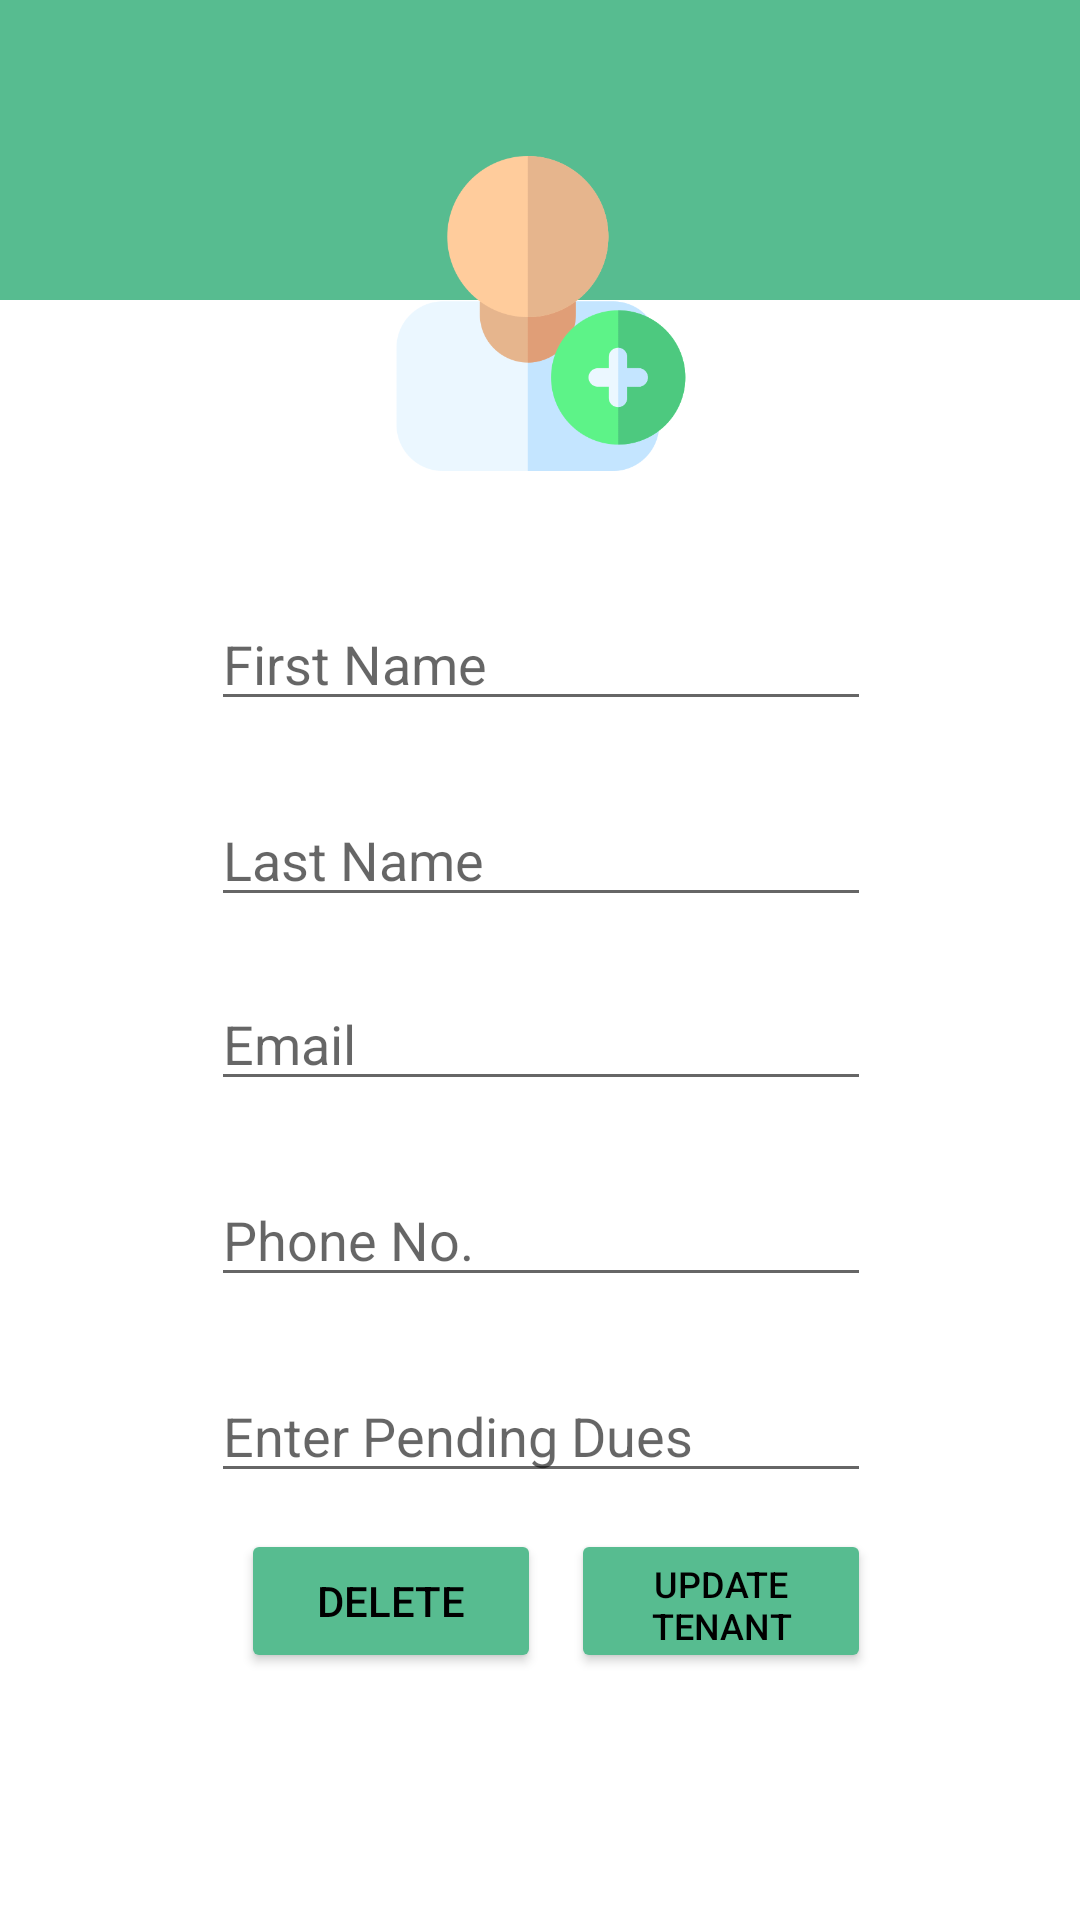

Named icons in this screenshot (1080 x 1920) and their centers, point (x, y):
add user: point (540, 313)
